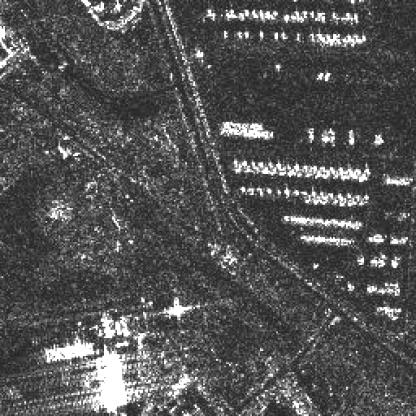airplane: (307, 127, 315, 141), (320, 133, 330, 143), (376, 133, 384, 145), (224, 8, 234, 16), (324, 72, 332, 82), (346, 135, 354, 145), (255, 187, 263, 197), (236, 12, 245, 20), (250, 8, 257, 18), (316, 72, 324, 80), (257, 8, 263, 18), (247, 187, 253, 197), (271, 8, 278, 16), (330, 132, 335, 143), (283, 188, 289, 197), (265, 10, 270, 20), (206, 6, 212, 14), (195, 49, 203, 55), (283, 13, 289, 21), (244, 8, 250, 16), (265, 187, 271, 195), (239, 185, 245, 192), (308, 190, 314, 197), (221, 30, 226, 38), (273, 31, 278, 39), (281, 31, 286, 39), (236, 31, 242, 37), (258, 31, 264, 37), (292, 189, 298, 195), (302, 190, 307, 197), (244, 31, 249, 37)
